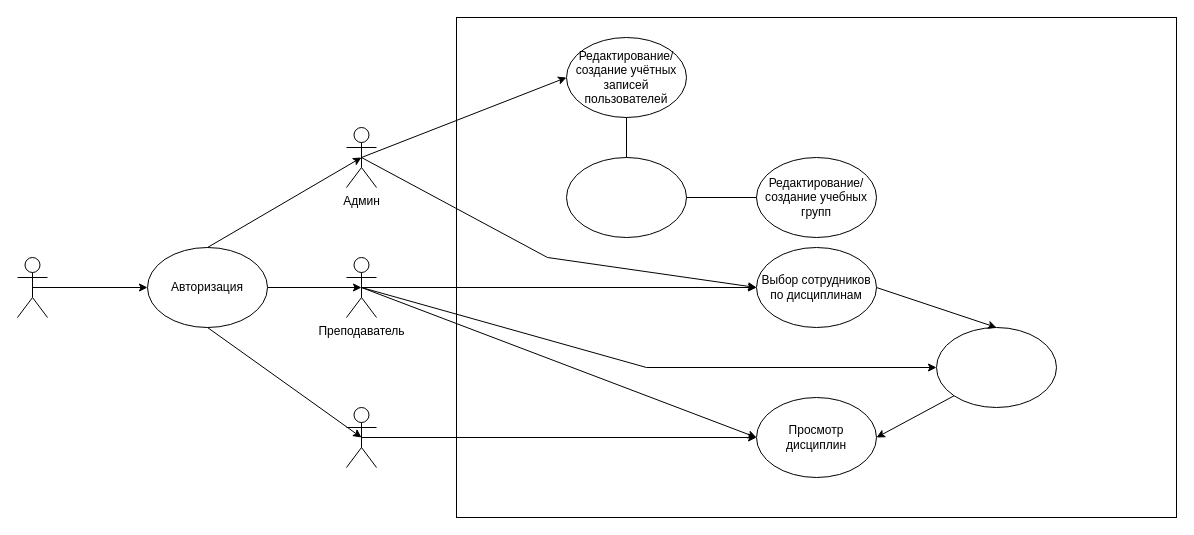
The diagram is 1194 pixels wide and 535 high, and some of its shapes have lost their labels. The shapes that lost their labels are listed below. From the top down, each one's centre as x and y in pixels, then its label:
At point 626,197: "Редактирование/создание новых дисциплин".
At point 32,287: "Гость".
At point 996,367: "Просмотр учебных групп".
At point 361,437: "Студент/родитель".
